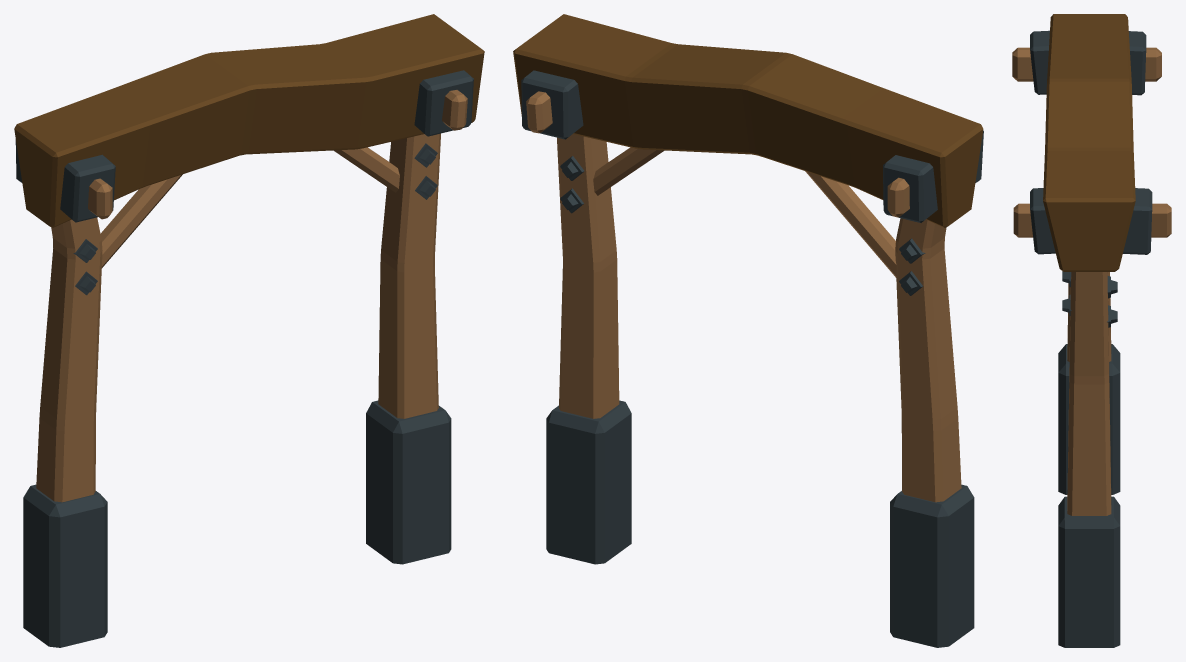
The model's file is mine_arch.fbx.
3 views of the same model, side by side, from view 1: azimuth 30°, elevation 25°; view 2: azimuth 150°, elevation 25°; view 3: azimuth 270°, elevation 25° (orthographic). The views are drawn at different scales.
Visible parts, largest first — view 1: Cube.008; view 2: Cube.008; view 3: Cube.008.
Part boxes in pixels (<box>): Cube.008: <box>14,14,484,647</box>; Cube.008: <box>513,14,983,647</box>; Cube.008: <box>1012,14,1171,647</box>.
Bounding box in the file's own units: 2.62 × 3.05 × 0.9276.
